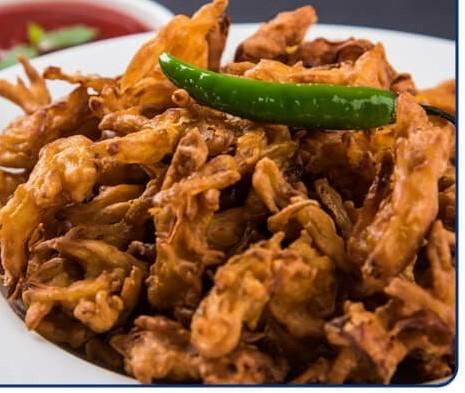OnionPakoda: (4, 0, 465, 393)
